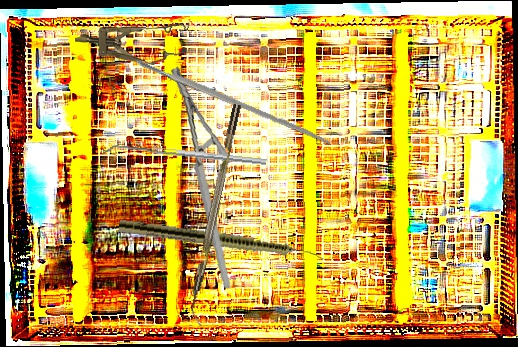Chopper: (183, 103, 252, 327)
Handpiece: (117, 218, 326, 264)
Needle Holder: (147, 65, 254, 289)
Scalpel Handle: (133, 55, 334, 148)
Spatula Surgical: (103, 142, 267, 171)
Speculum: (74, 17, 189, 66)
